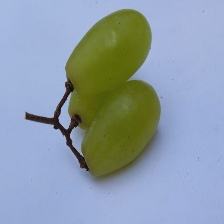grapes: (55, 63, 190, 202)
